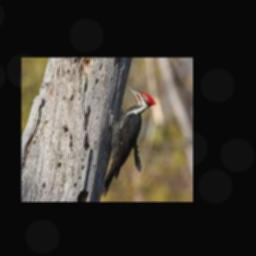Woodpecker: (101, 85, 156, 197)
